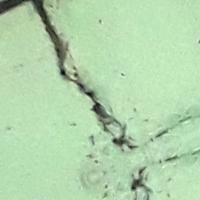crack: (1, 0, 139, 144)
